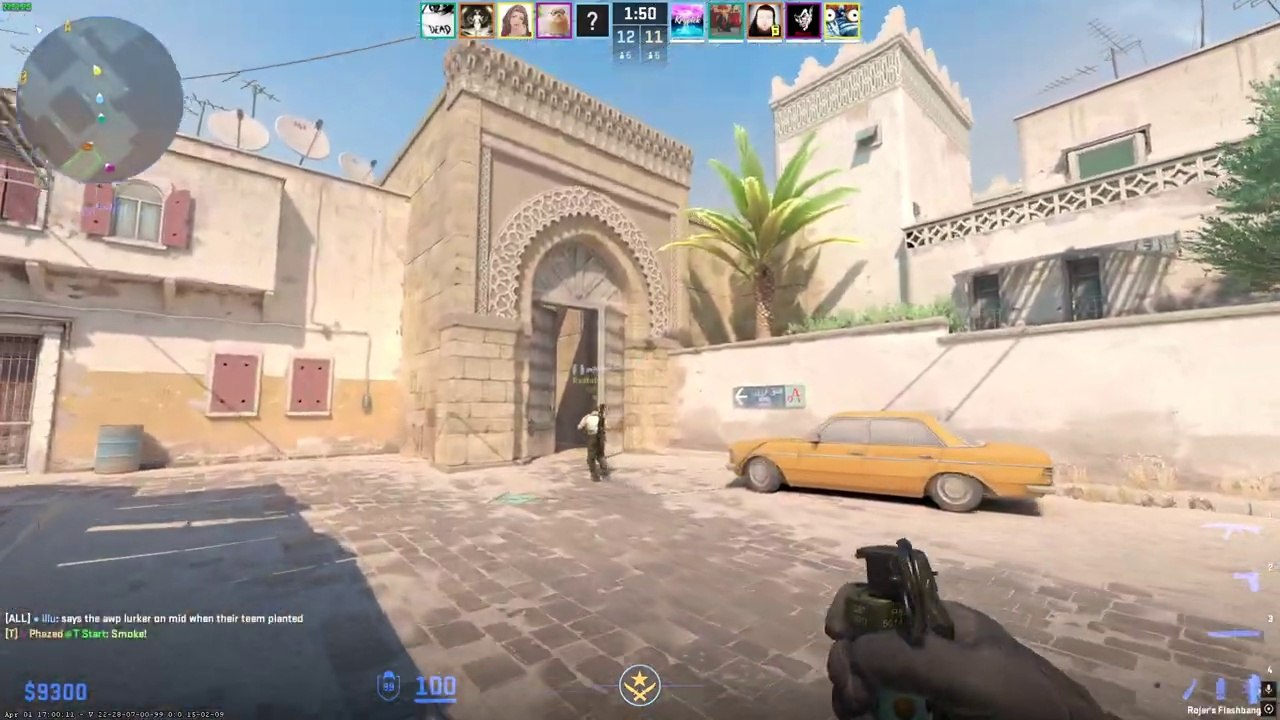Terrorist: (577, 404, 612, 482)
